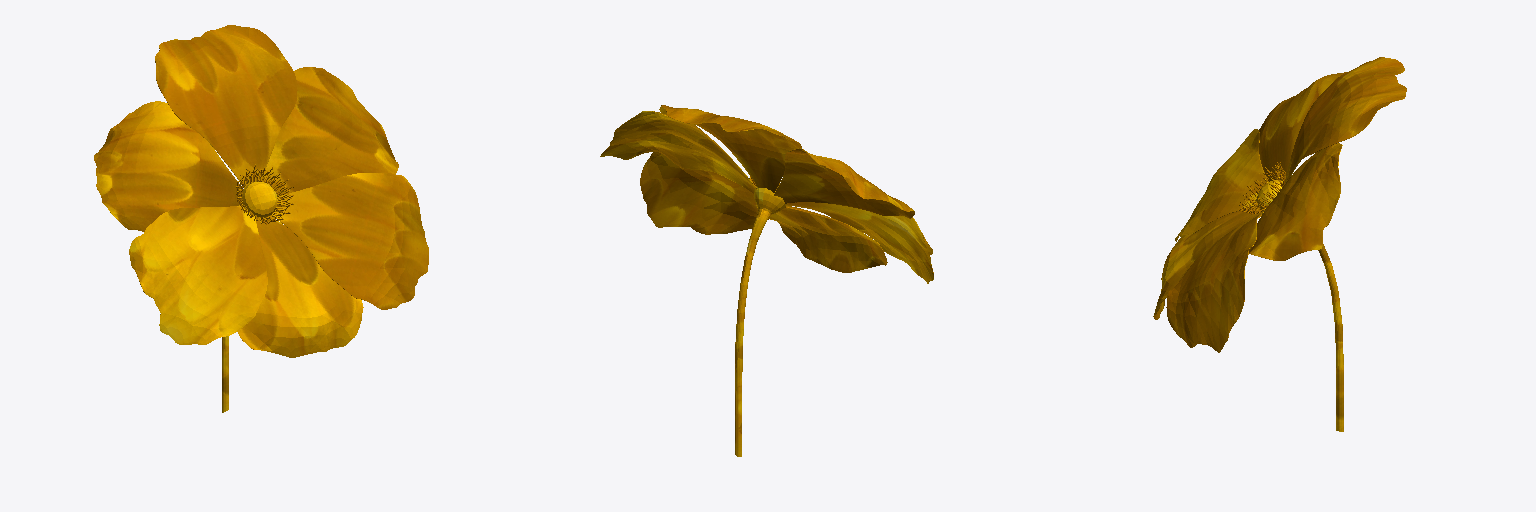
The picture shows the model from 3 angles: view 1: azimuth 30°, elevation 25°; view 2: azimuth 150°, elevation 25°; view 3: azimuth 270°, elevation 25°; orthographic projection.
Parts seen in each view (by area): view 1: flower; view 2: flower; view 3: flower.
Boxes of the visible parts, box(x1,y1,x2,y2) form: flower: box(94, 25, 428, 412); flower: box(600, 105, 933, 456); flower: box(1153, 57, 1406, 431).
Bounding box in the file's own units: 1.77 × 2.04 × 1.32.
1 materials, 1 textured.